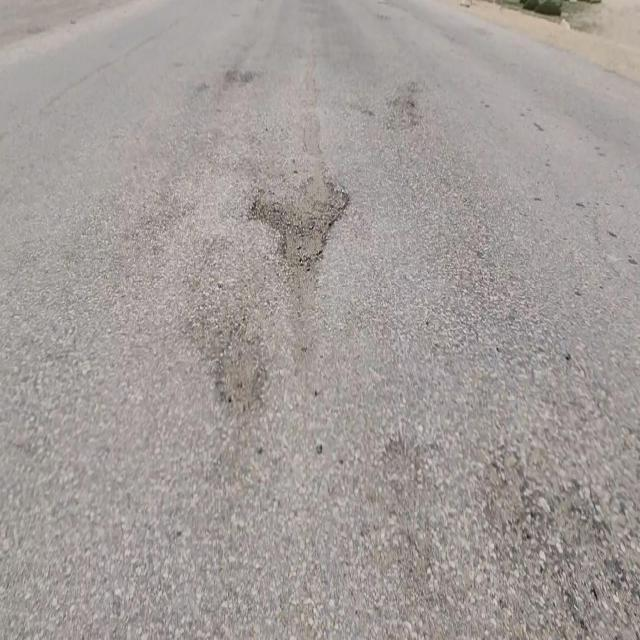Potholes: (248, 159, 352, 274)
